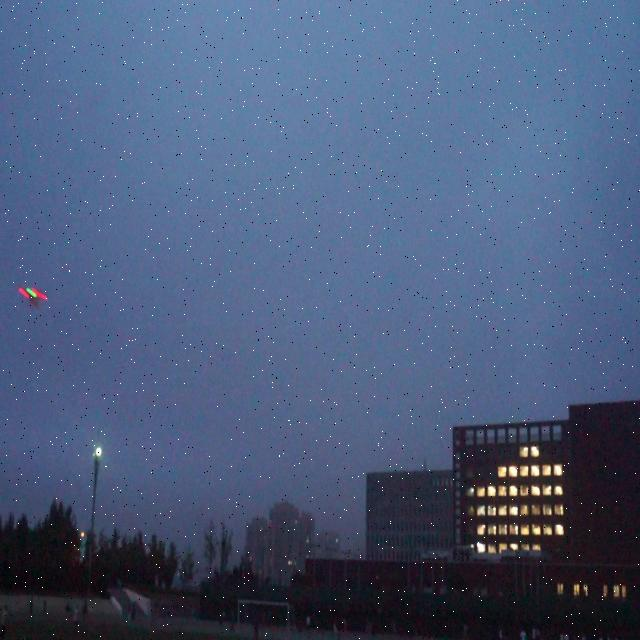UAV: (18, 286, 48, 306)
